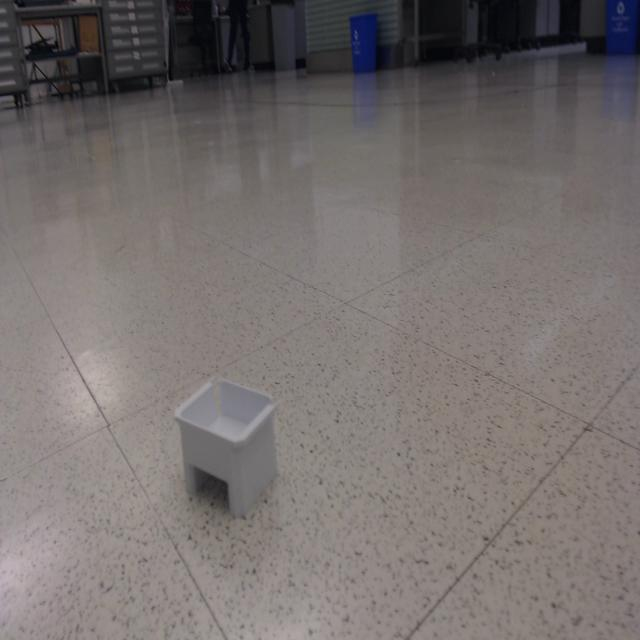wbox: (172, 369, 282, 520)
